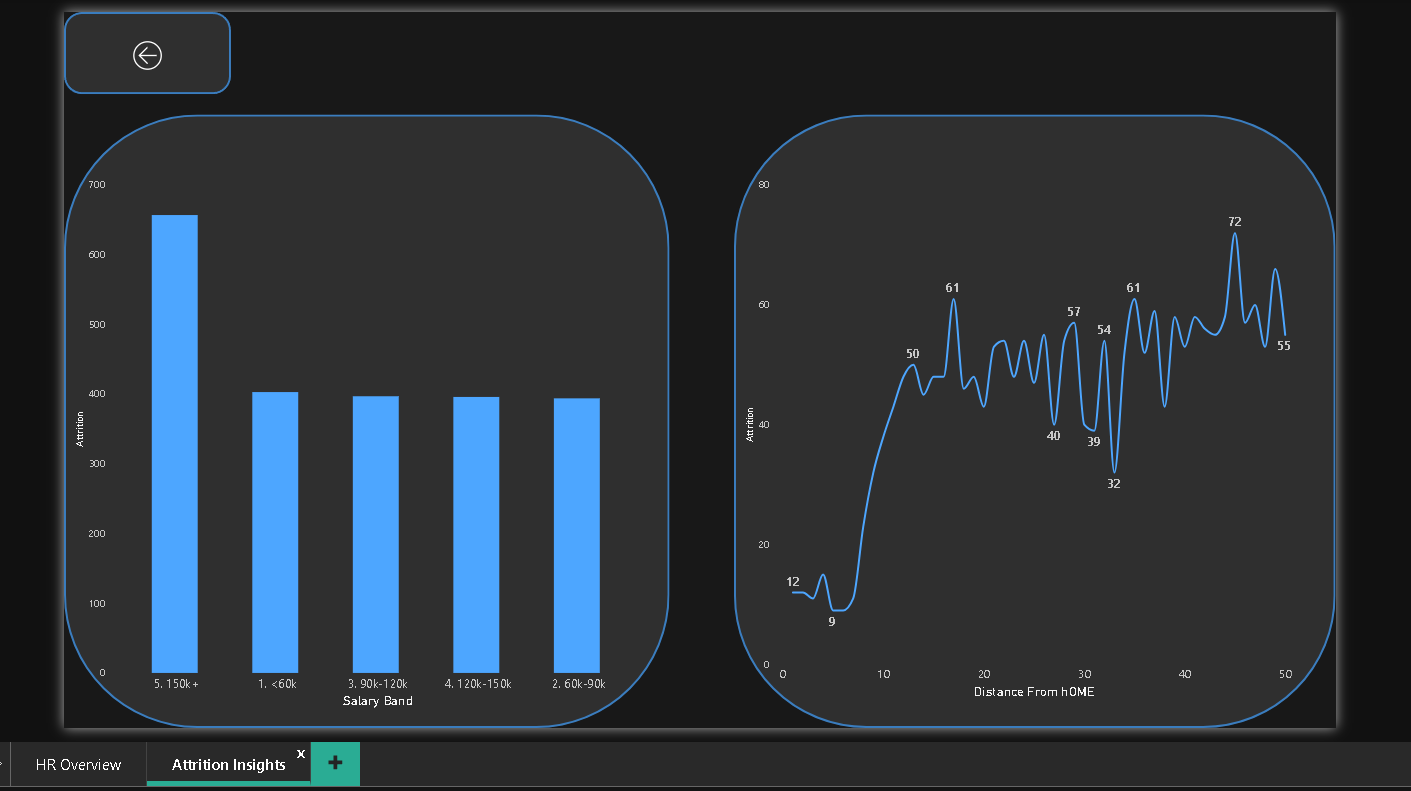

The dashboard page shown, as its layout file describes it:
{"tool":"powerbi","page":{"name":"Attrition Insights","canvas":[1920,1080],"ordinal":1},"visuals":[{"type":"shape","box":[0,0,252,124],"z":0},{"type":"shape","box":[1012,154,908,926],"z":1000},{"type":"shape","box":[0,154,914,926],"z":2000},{"type":"clusteredColumnChart","fields":{"Category":["hr_attrition_scored.salary_band"],"Y":["Sum(hr_attrition_scored.attrition_flag)"]},"box":[0,236,892,830],"z":3000},{"type":"lineChart","fields":{"Category":["hr_attrition_scored.distance_from_home"],"Y":["Sum(hr_attrition_scored.attrition_flag)"]},"box":[1012,236,858,816],"z":4000},{"type":"actionButton","box":[0,8,252,116],"z":5000}]}

Visuals, with their boxes on the page's 1920x1080 design canvas (x1, y1, x2, y2). These are canvas units, not pixel positions in the 1411x791 screenshot, which may show the page scaled, cropped or inside an application window:
shape: l=0, t=0, r=252, b=124
shape: l=1012, t=154, r=1920, b=1080
shape: l=0, t=154, r=914, b=1080
clusteredColumnChart - hr_attrition_scored.salary_band x Sum(hr_attrition_scored.attrition_flag): l=0, t=236, r=892, b=1066
lineChart - hr_attrition_scored.distance_from_home x Sum(hr_attrition_scored.attrition_flag): l=1012, t=236, r=1870, b=1052
actionButton: l=0, t=8, r=252, b=124
